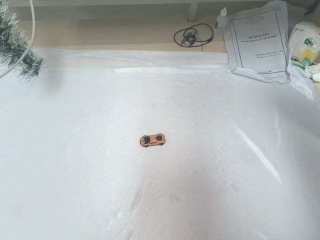toy_car: (140, 133, 166, 148)
